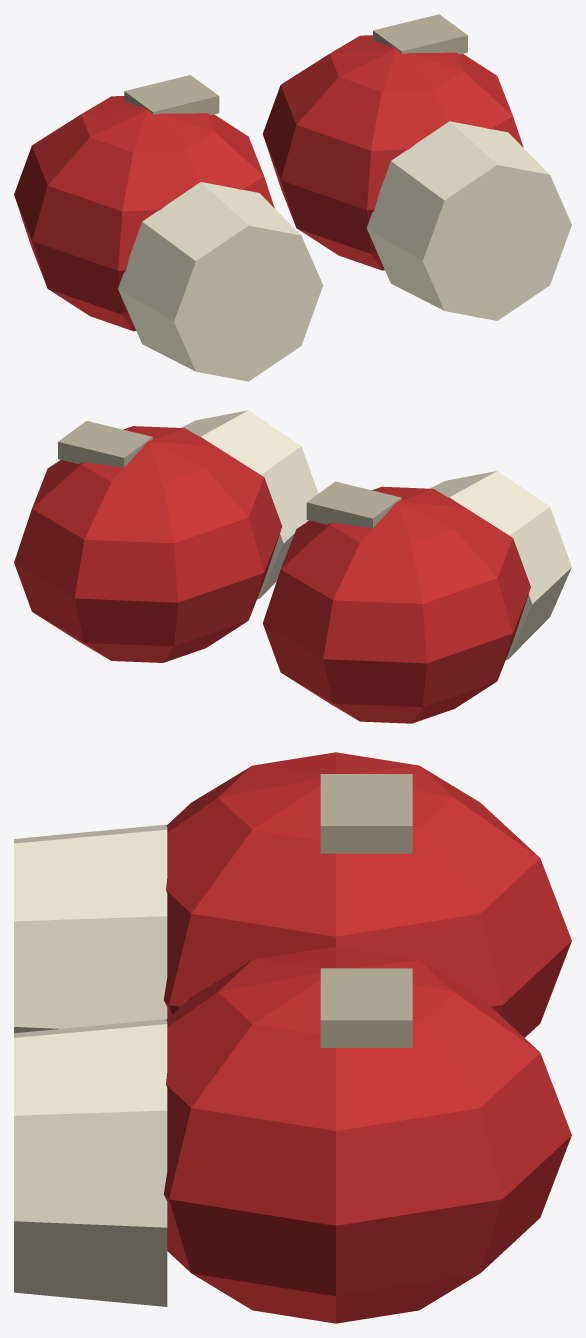
File: boxing_gloves.glb
3 renders of one model, top to bottom at view 1: azimuth 30°, elevation 25°; view 2: azimuth 150°, elevation 25°; view 3: azimuth 270°, elevation 25°, orthographic. The views are drawn at different scales.
Parts seen in each view (by area): view 1: gloves_glove_red, gloves_glove_cuff, patches_glove_tape (×2); view 2: gloves_glove_red, gloves_glove_cuff, patches_glove_tape (×2); view 3: gloves_glove_red, gloves_glove_cuff, patches_glove_tape (×2).
Part boxes in pixels (x1,y1,x2,y2): gloves_glove_red: (14, 35, 523, 331); gloves_glove_cuff: (118, 121, 571, 381); patches_glove_tape (×2): (124, 14, 467, 115); gloves_glove_red: (14, 426, 530, 723); gloves_glove_cuff: (181, 410, 571, 659); patches_glove_tape (×2): (58, 421, 401, 528); gloves_glove_red: (163, 752, 571, 1323); gloves_glove_cuff: (14, 824, 167, 1306); patches_glove_tape (×2): (320, 774, 412, 1047).
Size of the model in its own units: 0.29 by 0.12 by 0.182.
